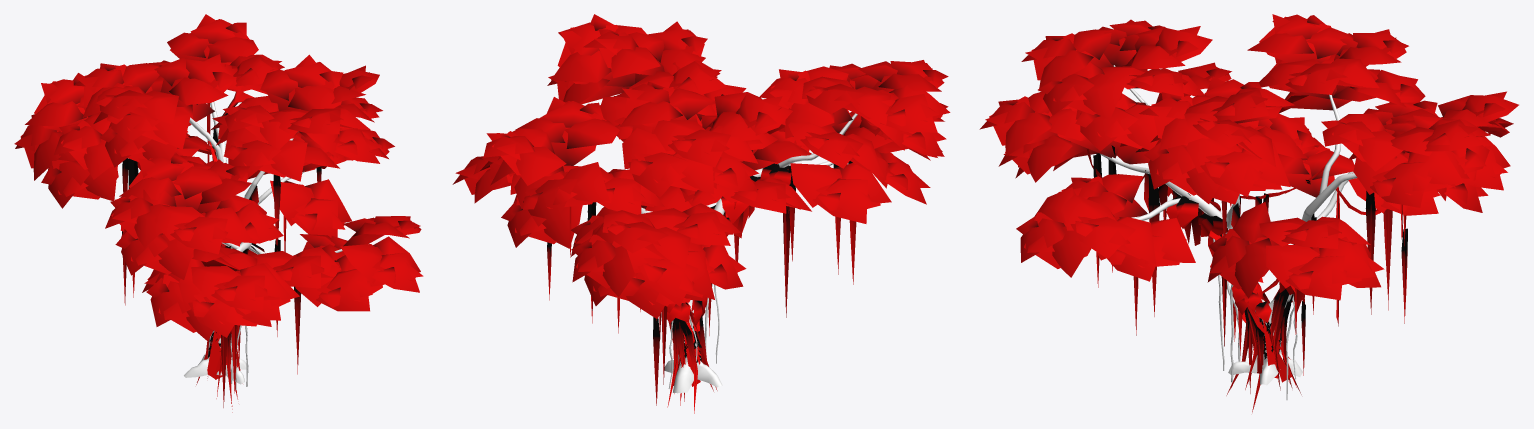
File: SM_Tree_Tropic_02.fbx
The picture shows the model from 3 angles, left to right: view 1: azimuth 30°, elevation 25°; view 2: azimuth 150°, elevation 25°; view 3: azimuth 270°, elevation 25°; orthographic projection. The views are drawn at different scales.
Visible parts, largest first — view 1: SM_Tree_Tropic_02_LOD0; view 2: SM_Tree_Tropic_02_LOD0; view 3: SM_Tree_Tropic_02_LOD0.
Part boxes in pixels (x1,y1,x2,y2): SM_Tree_Tropic_02_LOD0: (14, 14, 423, 412); SM_Tree_Tropic_02_LOD0: (452, 14, 950, 413); SM_Tree_Tropic_02_LOD0: (979, 14, 1518, 412).
Bounding box in the file's own units: 1746 × 2072 × 1511.
